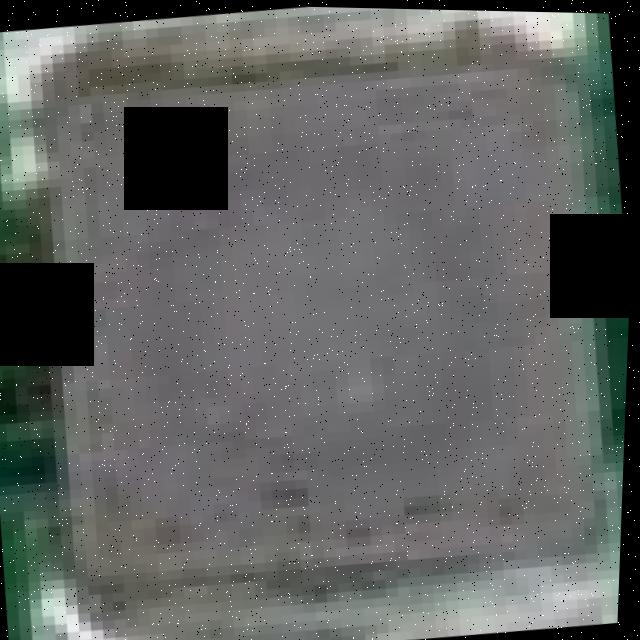inductor F1: (9, 0, 634, 640)
